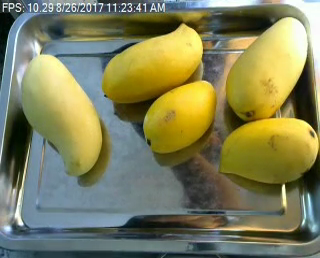Mango: (20, 55, 102, 174), (225, 16, 308, 118), (101, 22, 203, 101), (218, 119, 319, 183), (142, 80, 216, 154)
